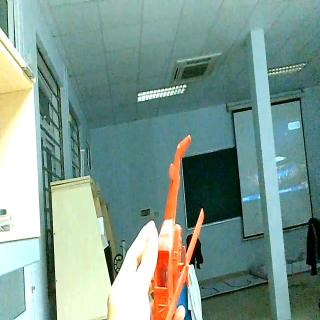Helicopter: (153, 133, 205, 320)
